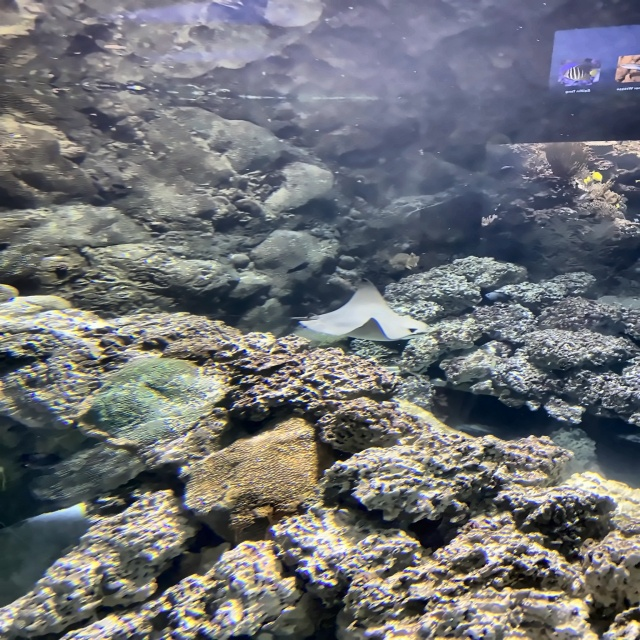stingray: (298, 277, 430, 339)
